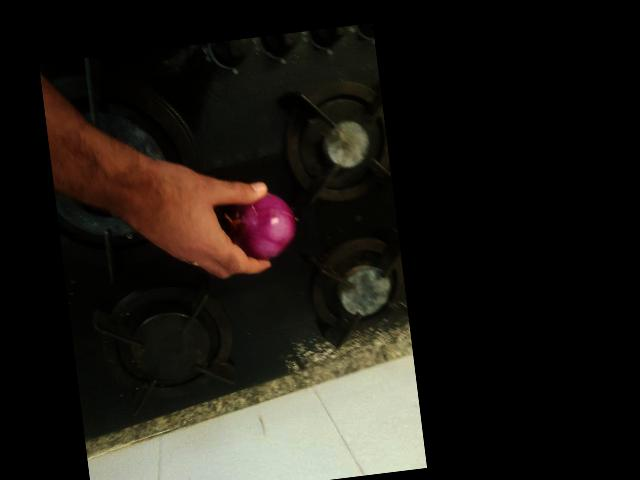onion: (226, 188, 303, 264)
